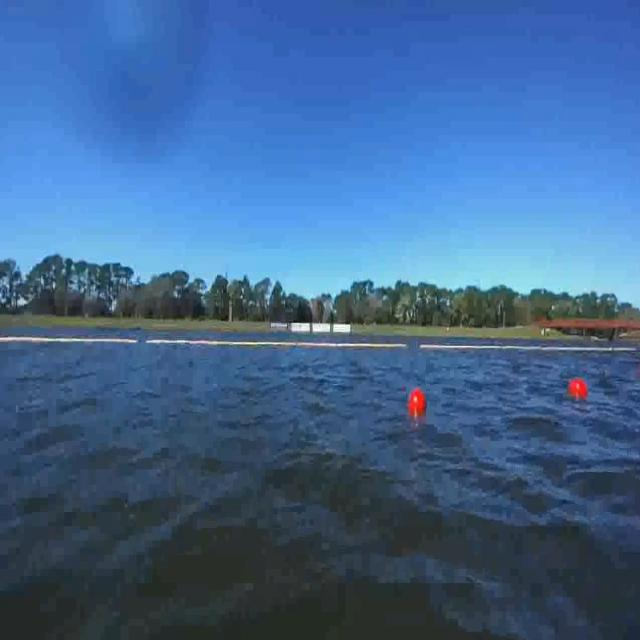red-buoy: (409, 391, 427, 418), (567, 377, 587, 398)
